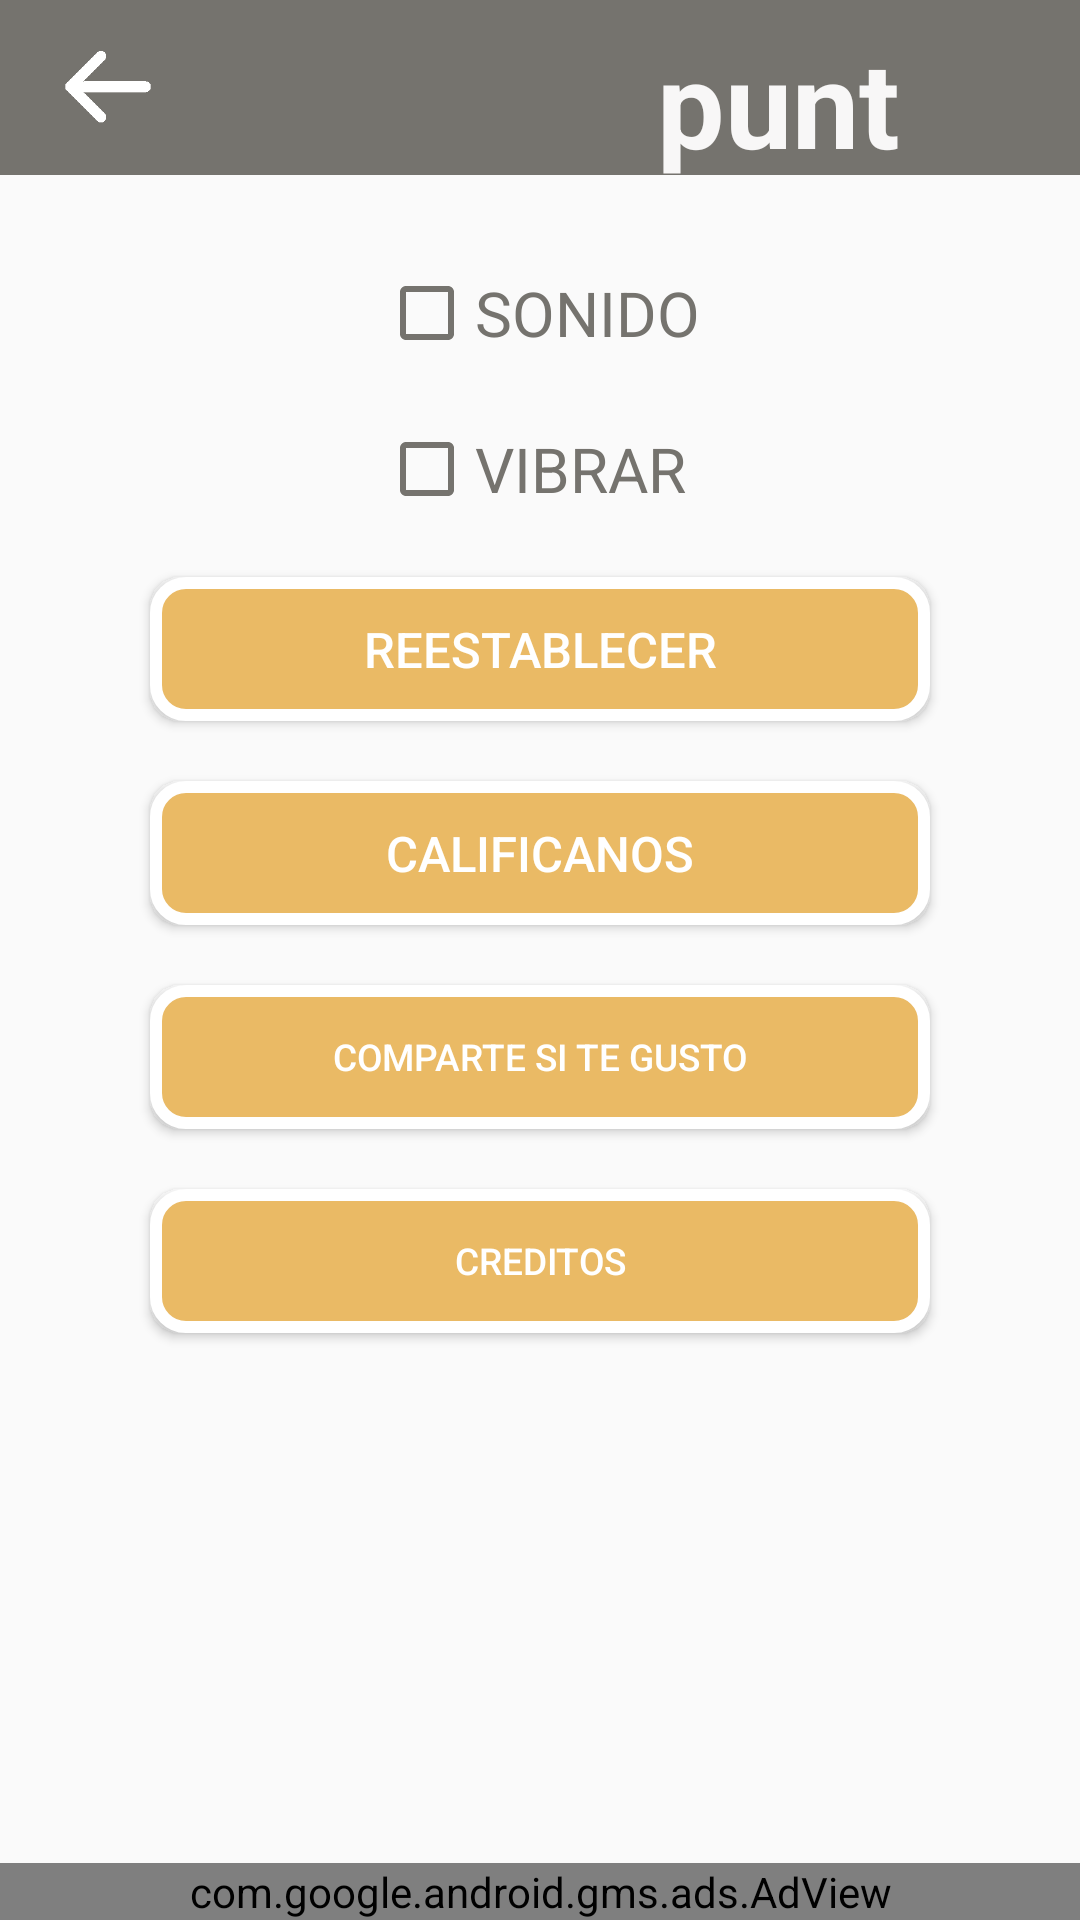

Named icons in this screenshot (1080 × 1920) and their centers, point (x, y):
atras: point (108, 87)
